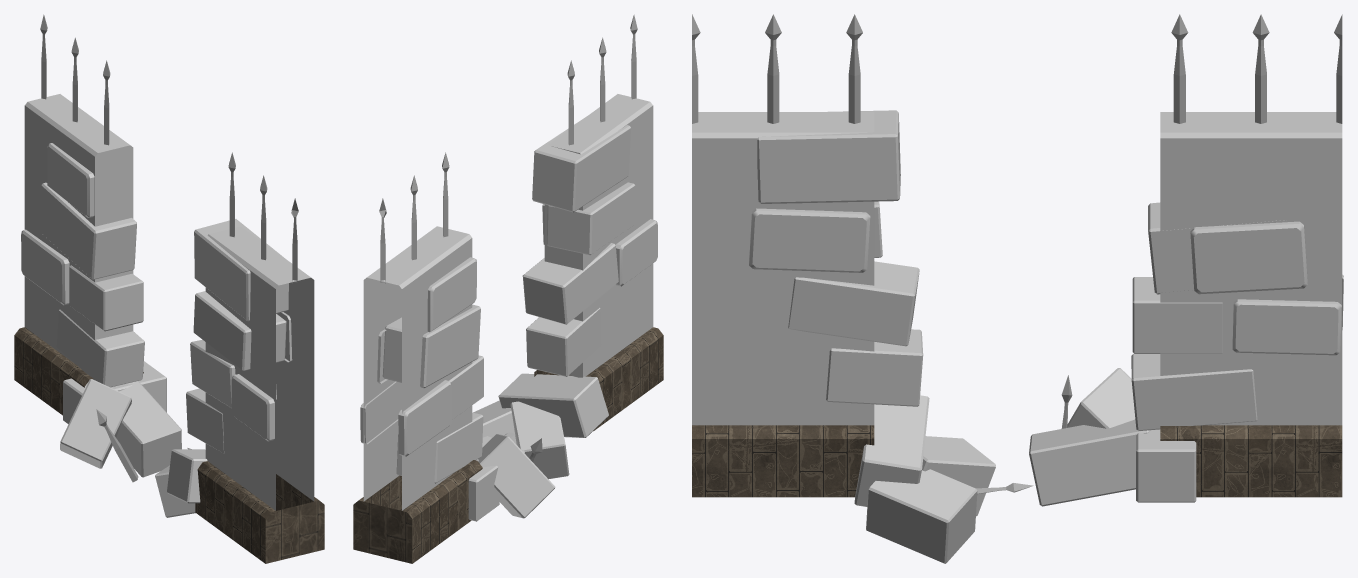
Rendered from BrokenMainwall.fbx.
3 views of the same model, side by side, from view 1: azimuth 30°, elevation 25°; view 2: azimuth 150°, elevation 25°; view 3: azimuth 270°, elevation 25° (orthographic). The views are drawn at different scales.
Visible parts, largest first — view 1: BrokenMainwall; view 2: BrokenMainwall; view 3: BrokenMainwall.
Boxes of the visible parts, box(x1,y1,x2,y2) form: BrokenMainwall: box(14, 14, 324, 563); BrokenMainwall: box(353, 14, 663, 563); BrokenMainwall: box(692, 14, 1343, 563).
Size of the model in its own units: 1.69 by 4.03 by 4.69.
